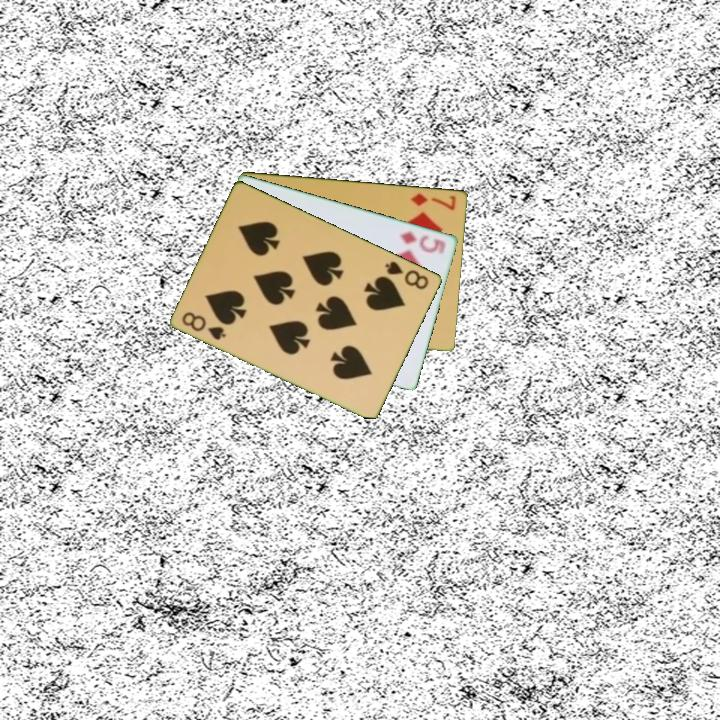5d: (397, 227, 449, 256)
7d: (407, 189, 459, 213)
8s: (382, 257, 432, 292), (179, 308, 229, 343)
